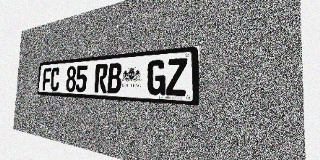5: (75, 65, 88, 92)
8: (66, 66, 77, 92)
B: (107, 62, 122, 94)
C: (50, 67, 60, 91)
F: (42, 68, 52, 91)
G: (147, 59, 166, 95)
R: (94, 64, 108, 93)
Z: (166, 58, 187, 96)
